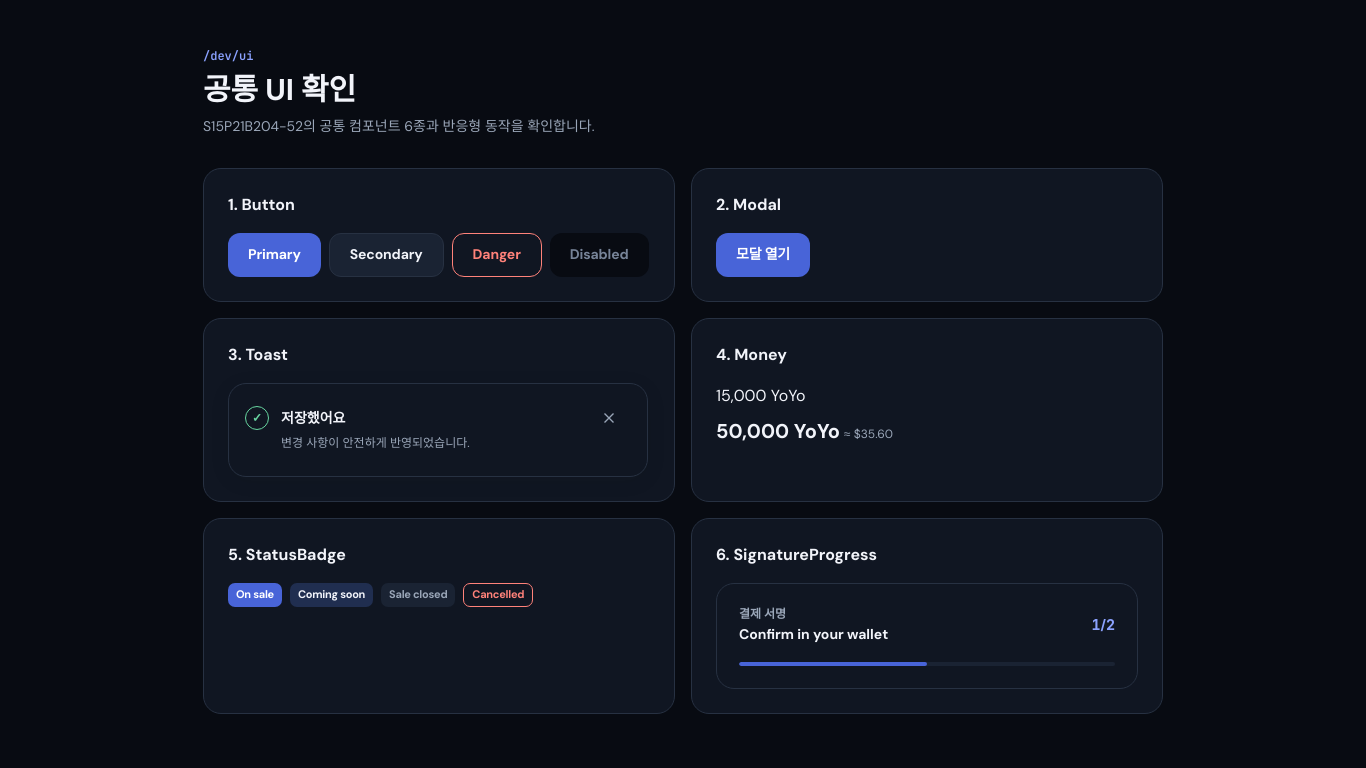
UX foundation components › renders all six components on the development page and closes the modal with Escape
expect the heading "1. Button" is shown: met, box [228, 194, 295, 215]
expect the heading "2. Modal" is shown: met, box [716, 194, 781, 215]
Click the button "모달 열기" at (763, 255), box [716, 233, 810, 277]
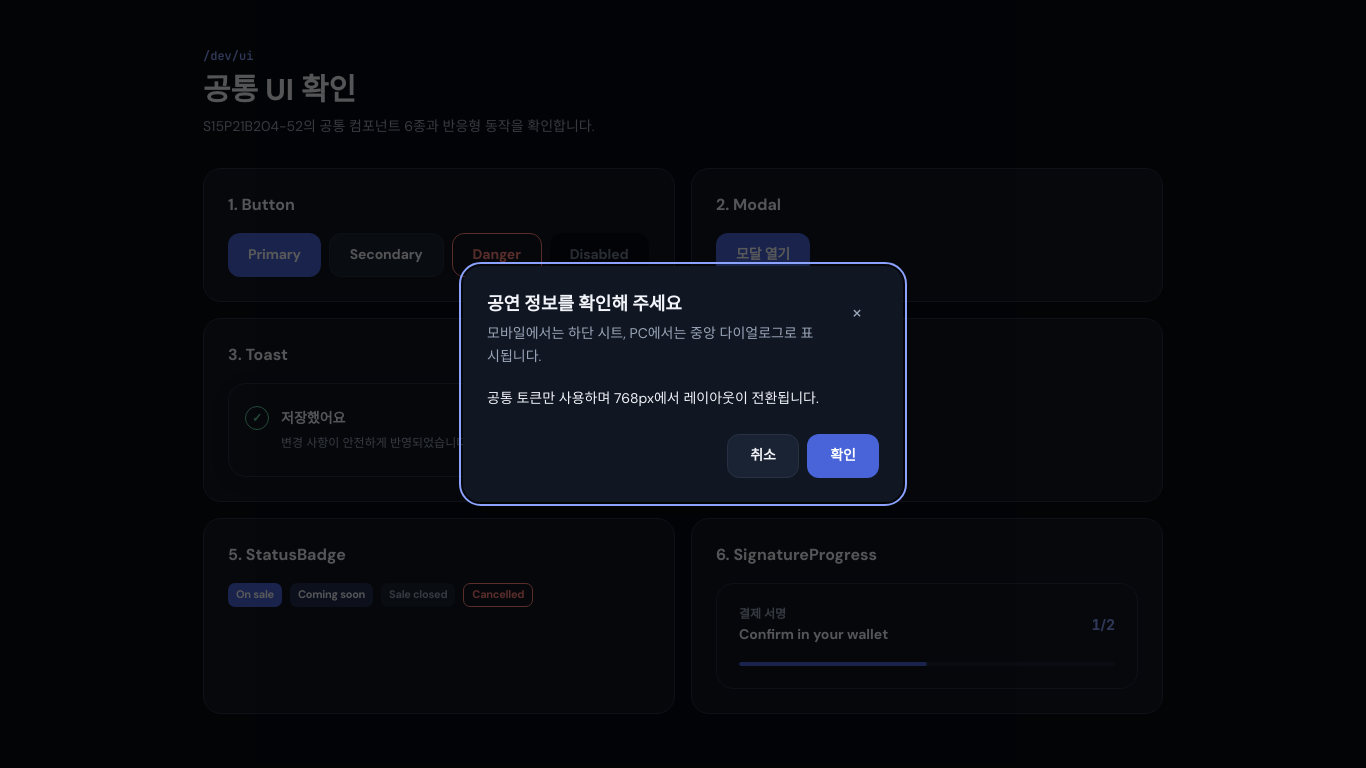
expect the dialog "공연 정보를 확인해 주세요" is shown: met, box [463, 266, 903, 502]
Press Escape
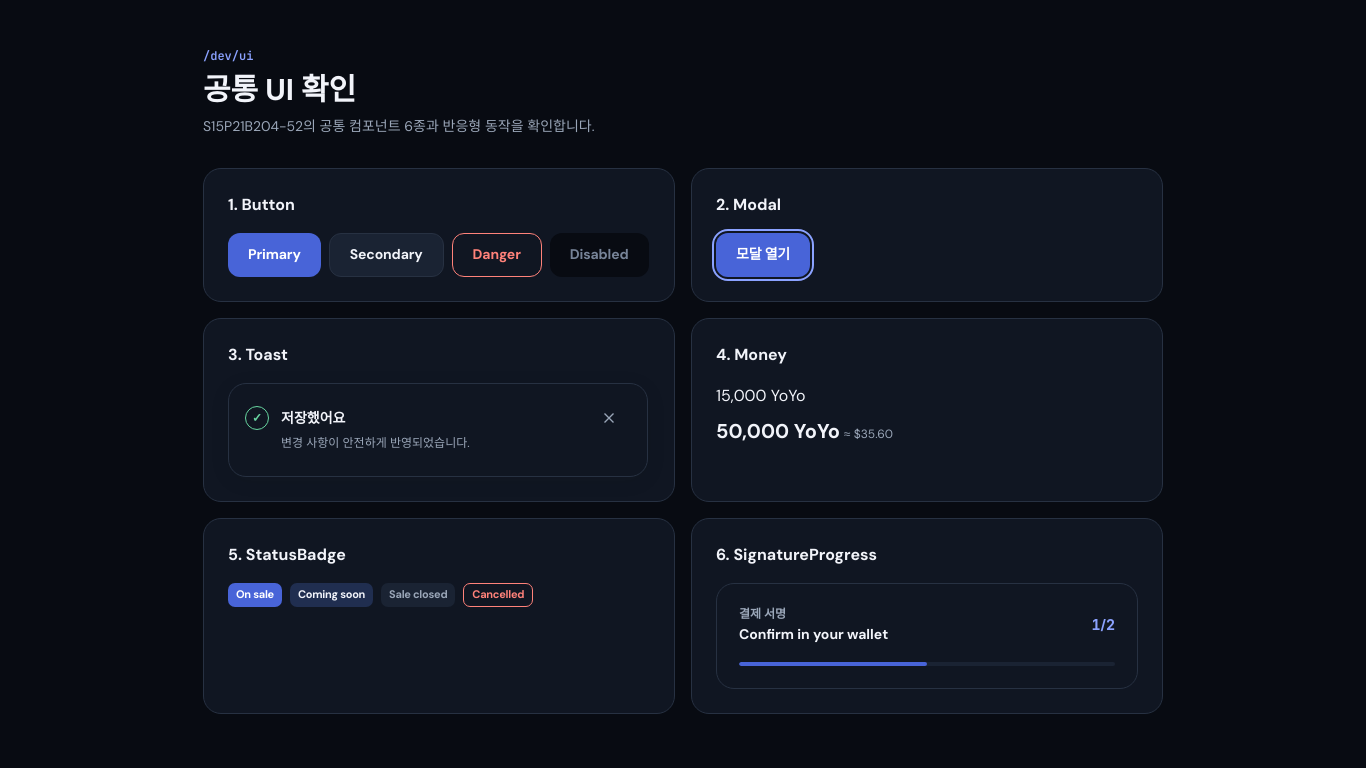
expect the dialog is gone: met
